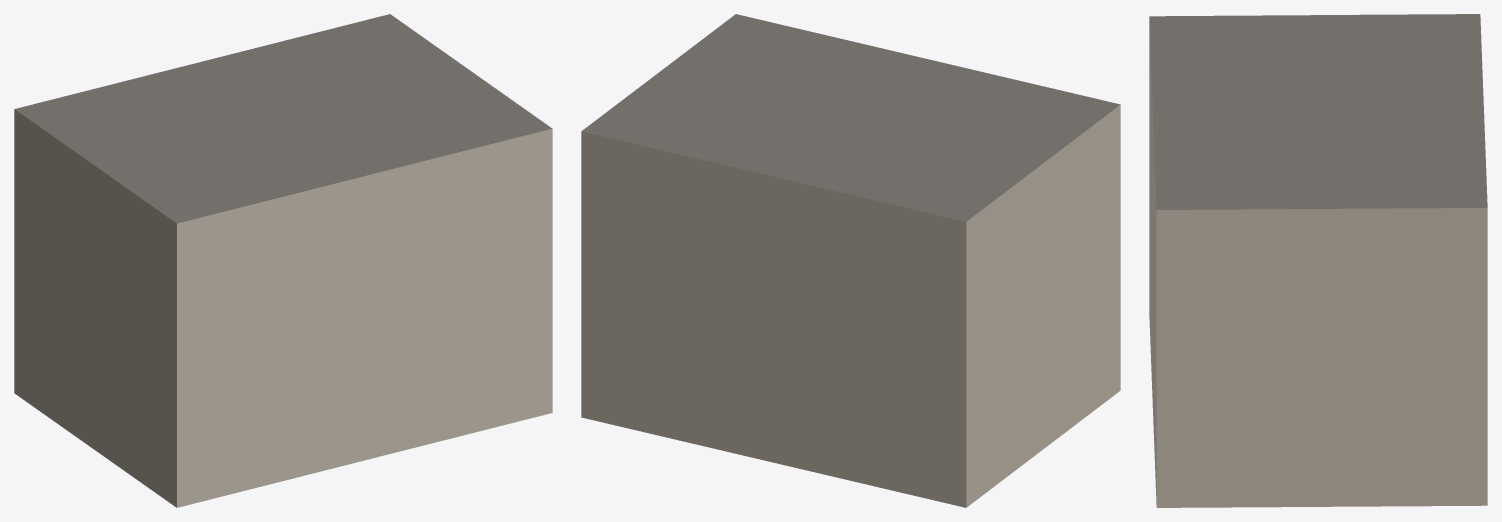
3 renders of one model, left to right at view 1: azimuth 30°, elevation 25°; view 2: azimuth 150°, elevation 25°; view 3: azimuth 270°, elevation 25°, orthographic. The views are drawn at different scales.
Parts seen in each view (by area): view 1: HP-w1287262670; view 2: HP-w1287262670; view 3: HP-w1287262670.
Part boxes in pixels (x1,y1,x2,y2): HP-w1287262670: (14, 14, 552, 507); HP-w1287262670: (581, 14, 1120, 507); HP-w1287262670: (1149, 14, 1487, 507).
Size of the model in its own units: 25.4 by 18 by 18.53.
